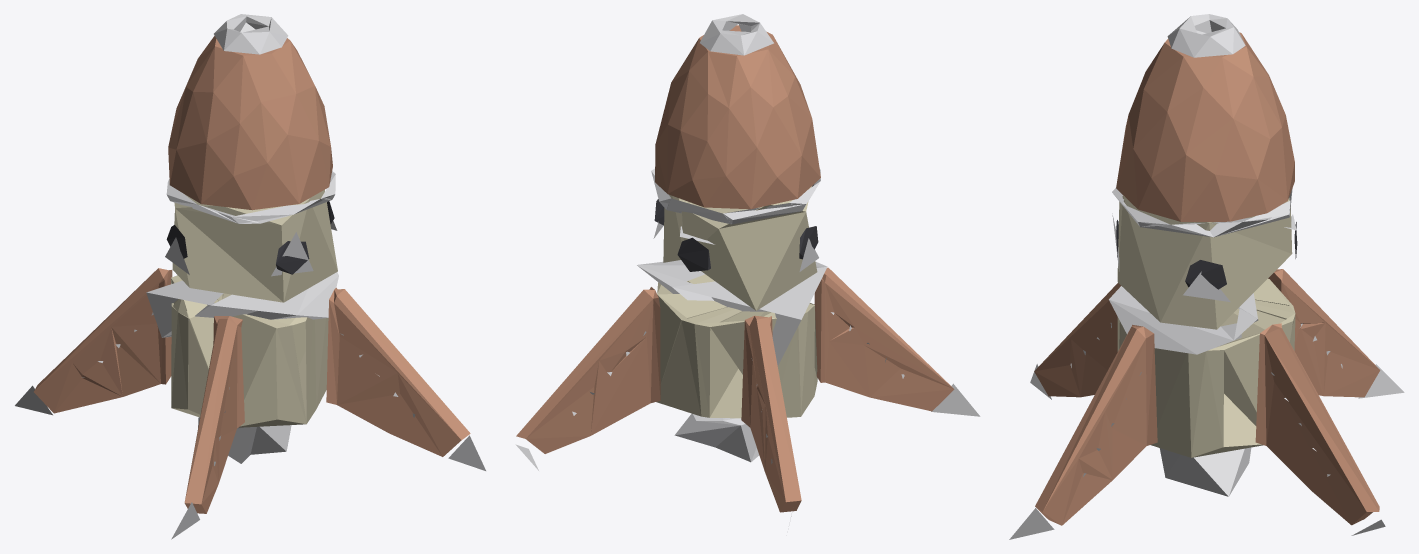
File: rocket_d1_lod1.glb
3 renders of one model, left to right at view 1: azimuth 30°, elevation 25°; view 2: azimuth 150°, elevation 25°; view 3: azimuth 270°, elevation 25°, orthographic. The views are drawn at different scales.
Visible parts, largest first — view 1: Oxide, OxideNose, Khaki, KhakiA2, NickelA1, NickelA2, NickelNose, NickelCap, Blackout; view 2: Oxide, OxideNose, Khaki, KhakiA2, NickelA1, NickelA2, NickelCap, NickelNose, Blackout; view 3: Oxide, OxideNose, Khaki, KhakiA2, NickelA1, NickelA2, NickelCap, NickelNose, Blackout.
Boxes of the visible parts, <box> form: Oxide: <box>34,268,470,513</box>; OxideNose: <box>168,36,332,210</box>; Khaki: <box>171,275,328,427</box>; KhakiA2: <box>172,189,337,302</box>; NickelA1: <box>15,272,485,539</box>; NickelA2: <box>165,171,337,276</box>; NickelNose: <box>214,14,288,54</box>; NickelCap: <box>198,417,291,463</box>; Blackout: <box>166,201,334,274</box>; Oxide: <box>516,267,954,512</box>; OxideNose: <box>655,25,820,209</box>; Khaki: <box>656,274,817,418</box>; KhakiA2: <box>663,186,817,310</box>; NickelA1: <box>515,260,980,516</box>; NickelA2: <box>651,168,820,271</box>; NickelCap: <box>674,413,759,462</box>; NickelNose: <box>700,14,773,55</box>; Blackout: <box>654,199,818,271</box>; Oxide: <box>1034,269,1380,525</box>; OxideNose: <box>1116,32,1294,221</box>; Khaki: <box>1117,278,1295,457</box>; KhakiA2: <box>1117,195,1292,329</box>; NickelA1: <box>1009,286,1404,539</box>; NickelA2: <box>1112,188,1296,301</box>; NickelCap: <box>1159,447,1251,496</box>; NickelNose: <box>1167,14,1245,57</box>; Blackout: <box>1116,220,1297,289</box>.
Size of the model in its own units: 0.1697 by 0.2222 by 0.1789.
